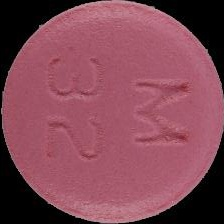0615-8016: (0, 0, 224, 224)
